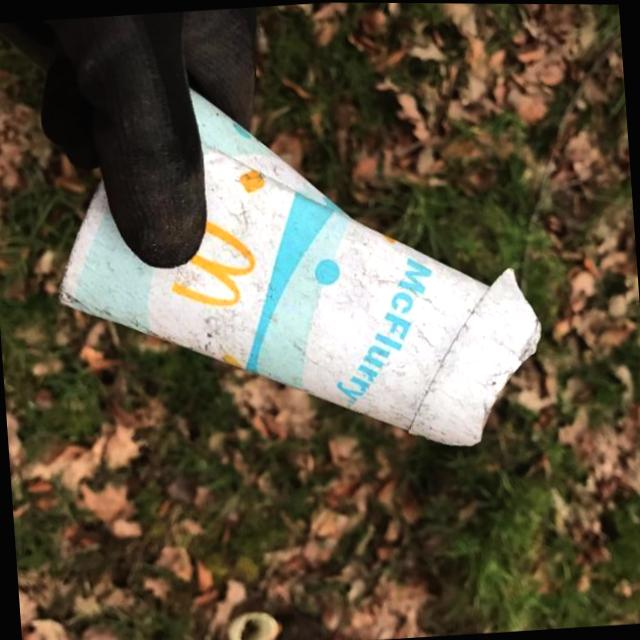Paper: (38, 55, 554, 475)
